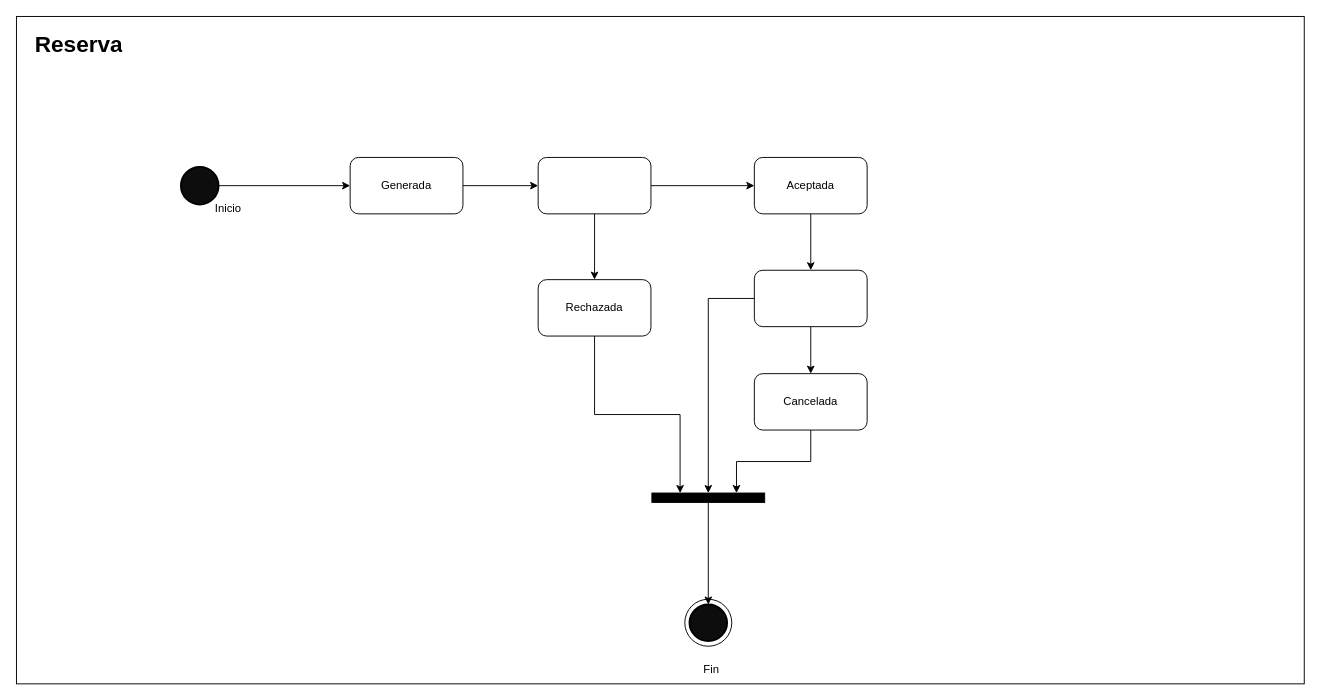
Image size: 1321x700. Some labels were removed from this diagram. The shapes that lost their labels are listed below. From the top down, each one's centre as x and y in pixels, then its label:
the point at 594,185: Pendiente
the point at 810,298: Agendada
